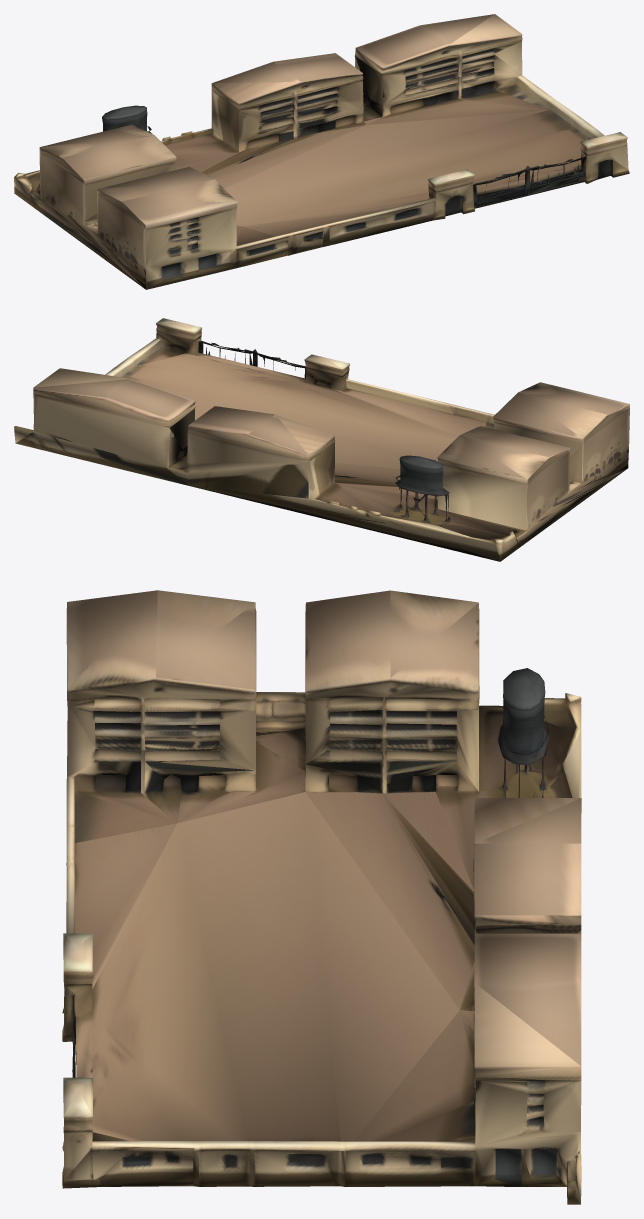
File: BD_Paramount.fbx
3 views of the same model, one above another, from view 1: azimuth 30°, elevation 25°; view 2: azimuth 150°, elevation 25°; view 3: azimuth 270°, elevation 25° (orthographic). The views are drawn at different scales.
Visible parts, largest first — view 1: model; view 2: model; view 3: model.
Boxes of the visible parts, box(x1,y1,x2,y2) form: model: box(14, 14, 629, 289); model: box(14, 318, 629, 561); model: box(62, 590, 581, 1204).
Size of the model in its own units: 130 by 60 by 18.
Materials: 1 (1 with a texture image).
